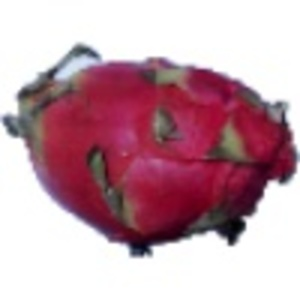pitaia: (1, 43, 300, 259)
